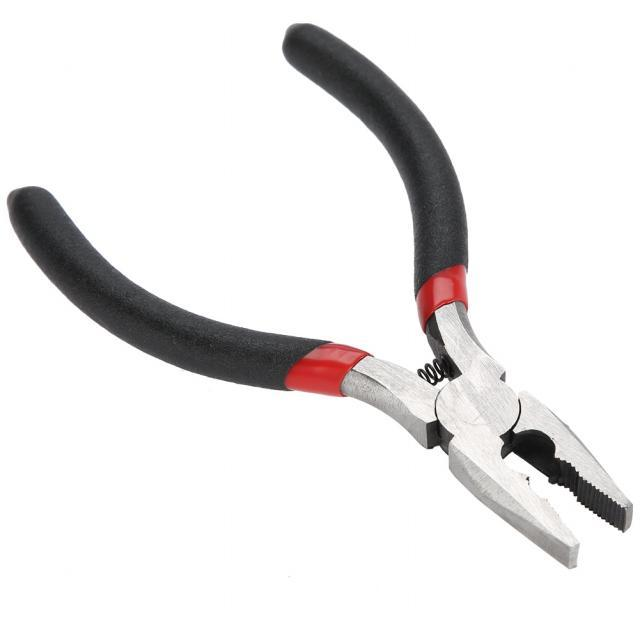pliers: (3, 14, 640, 575)
